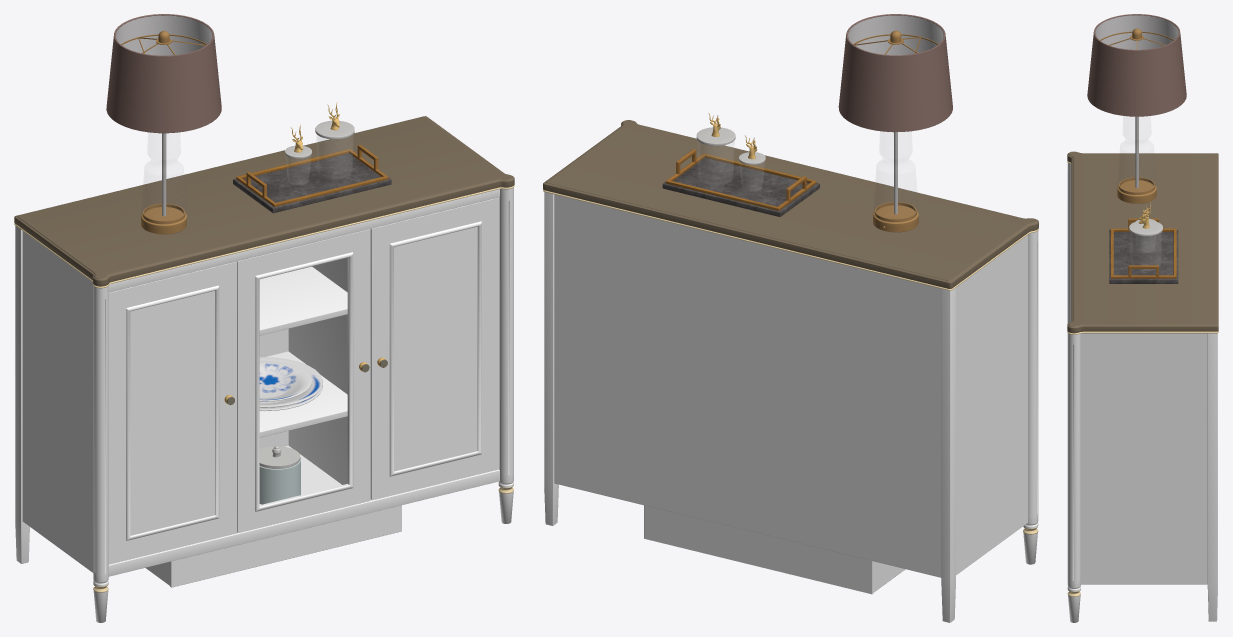
3 views of the same model, side by side, from view 1: azimuth 30°, elevation 25°; view 2: azimuth 150°, elevation 25°; view 3: azimuth 270°, elevation 25° (orthographic). The views are drawn at different scales.
Visible parts, largest first — view 1: object 1, object 3, object 20, object 15, object 2, object 25, object 14, object 37, object 4, object 18, object 5, object 12 (+13 smaller); view 2: object 16, object 20, object 15, object 25, object 39, object 24, object 36, object 23, object 4, UVing1_112, object 35, object 21; view 3: object 22, object 20, object 25, object 5, object 23, object 36, UVing1_112, object 35, object 4, object 21, object 55, object 57 (+1 smaller).
Boxes of the visible parts, box(x1,y1,x2,y2) form: object 1: box(370, 197, 499, 499); object 3: box(108, 261, 236, 564); object 20: box(14, 116, 514, 286); object 15: box(22, 231, 93, 572); object 2: box(237, 229, 370, 532); object 25: box(106, 14, 221, 133); object 14: box(288, 258, 347, 484); object 37: box(170, 505, 401, 587); object 4: box(93, 286, 108, 622); object 18: box(108, 469, 499, 576); object 5: box(498, 187, 513, 523); object 12: box(259, 266, 347, 335); object 16: box(554, 194, 941, 577); object 20: box(543, 120, 1038, 288); object 15: box(956, 235, 1027, 574); object 25: box(838, 14, 952, 132); object 39: box(644, 505, 873, 594); object 24: box(941, 287, 955, 622); object 36: box(662, 158, 819, 216); object 23: box(544, 192, 558, 525); object 4: box(1023, 231, 1038, 564); UVing1_112: box(665, 149, 816, 210); object 35: box(873, 202, 918, 232); object 21: box(543, 190, 1038, 290); object 22: box(1080, 333, 1207, 584); object 20: box(1067, 151, 1218, 333); object 25: box(1087, 14, 1186, 116); object 5: box(1067, 333, 1080, 622); object 23: box(1207, 333, 1217, 621); object 36: box(1109, 230, 1178, 283); UVing1_112: box(1110, 218, 1176, 278); object 35: box(1117, 177, 1156, 203); object 4: box(1067, 163, 1071, 323); object 21: box(1067, 161, 1218, 334); object 55: box(1129, 220, 1162, 236); object 57: box(1135, 235, 1156, 252).
Size of the model in its own units: 153 by 187 by 55.46.
Materials: 2 (2 with a texture image).
